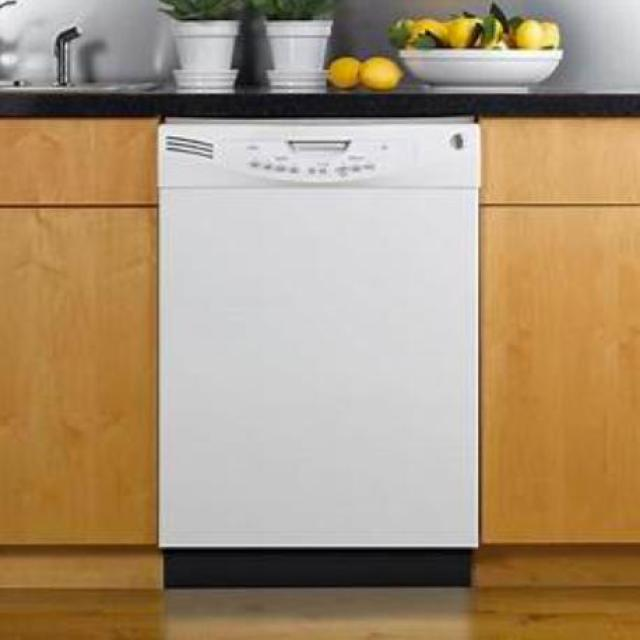dishwasher: (156, 115, 476, 584)
